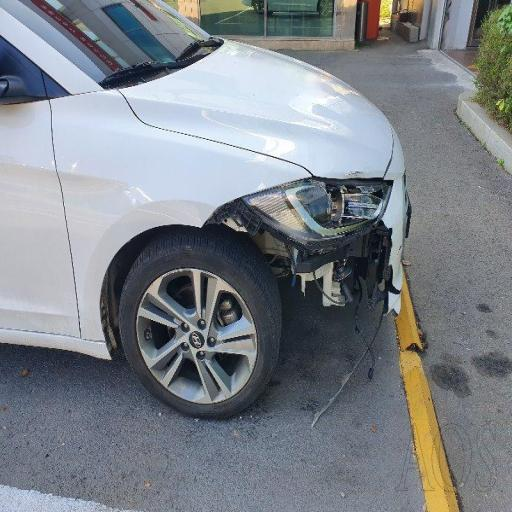broken: (194, 124, 413, 364)
scratch: (13, 183, 103, 286)
